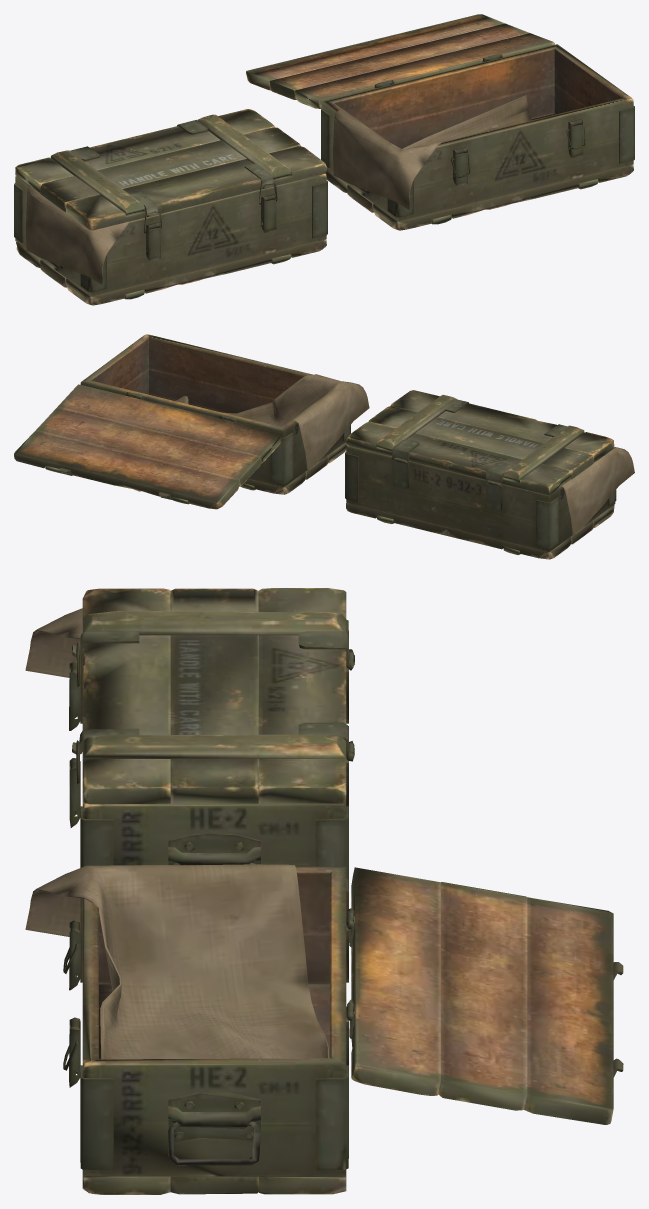
File: old_military_crate.glb
The picture shows the model from 3 angles, top to bottom: view 1: azimuth 30°, elevation 25°; view 2: azimuth 150°, elevation 25°; view 3: azimuth 270°, elevation 25°; orthographic projection. The views are drawn at different scales.
Parts seen in each view (by area): view 1: old_military_crate_lid_a; view 2: old_military_crate_lid_a; view 3: old_military_crate_lid_a.
Part boxes in pixels (x1,y1,x2,y2): old_military_crate_lid_a: (14, 14, 634, 305); old_military_crate_lid_a: (14, 334, 634, 559); old_military_crate_lid_a: (25, 588, 623, 1194).
Bounding box in the file's own units: 1.82 × 0.3009 × 0.9756.
1 material, 1 textured.
